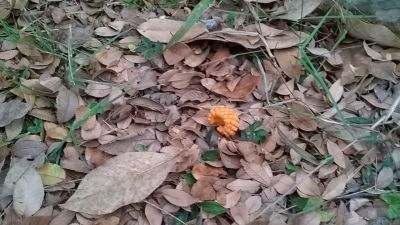eggs: (207, 105, 241, 137)
